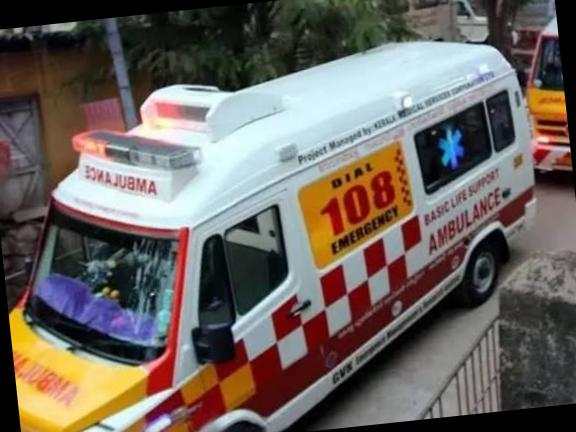ambulance: (0, 25, 557, 432)
